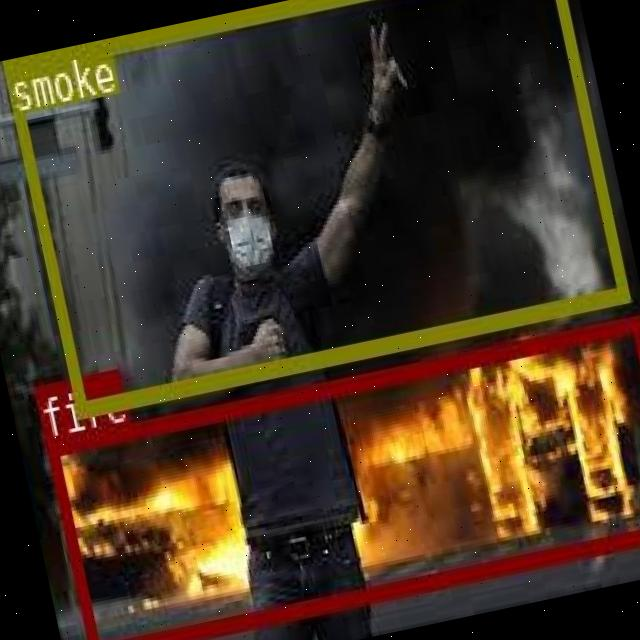fire: (43, 313, 640, 640)
smoke: (1, 0, 627, 416)
